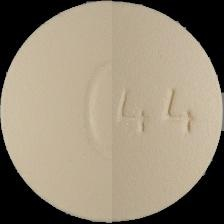63629-2873: (0, 0, 224, 224)
